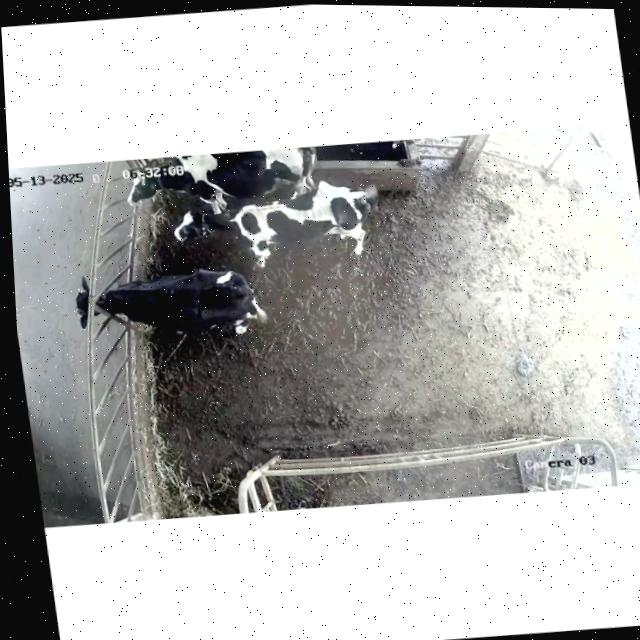stand: (168, 173, 382, 274), (120, 141, 326, 216)
